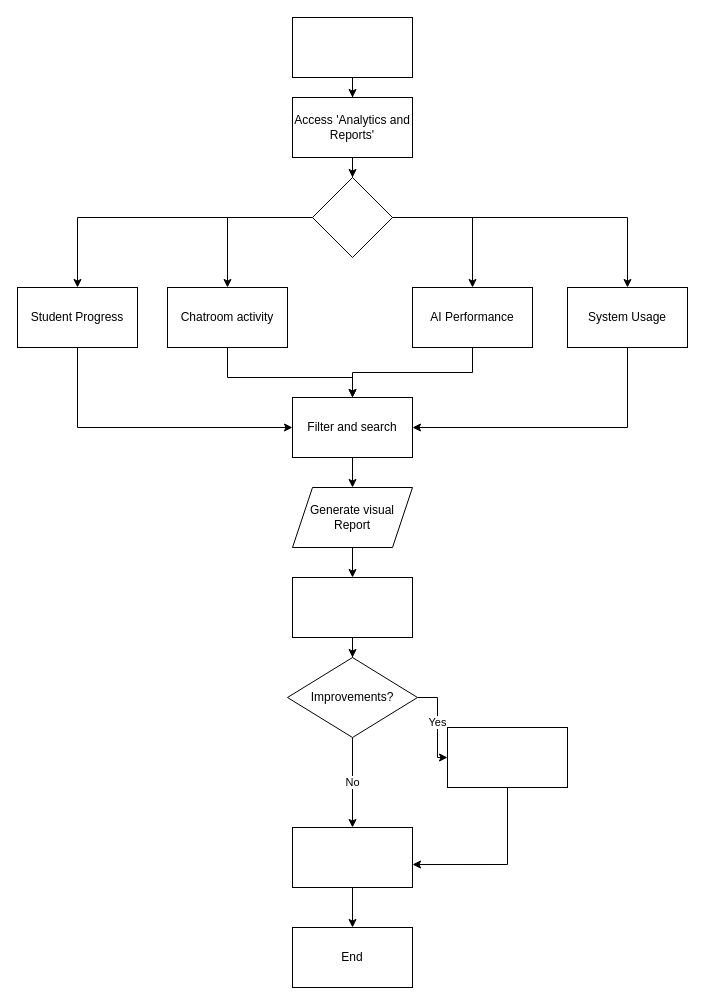
The diagram is 705 pixels wide and 1005 high, and some of its shapes have lost their labels. The centre of each missing label's shape, as x and y in pixels:
Analyze Key Metrics: the point at 352,607
Export Report: the point at 352,857
Flag issue: the point at 507,757
Select Report Type: the point at 352,217
Start: Admin logs in: the point at 352,47
